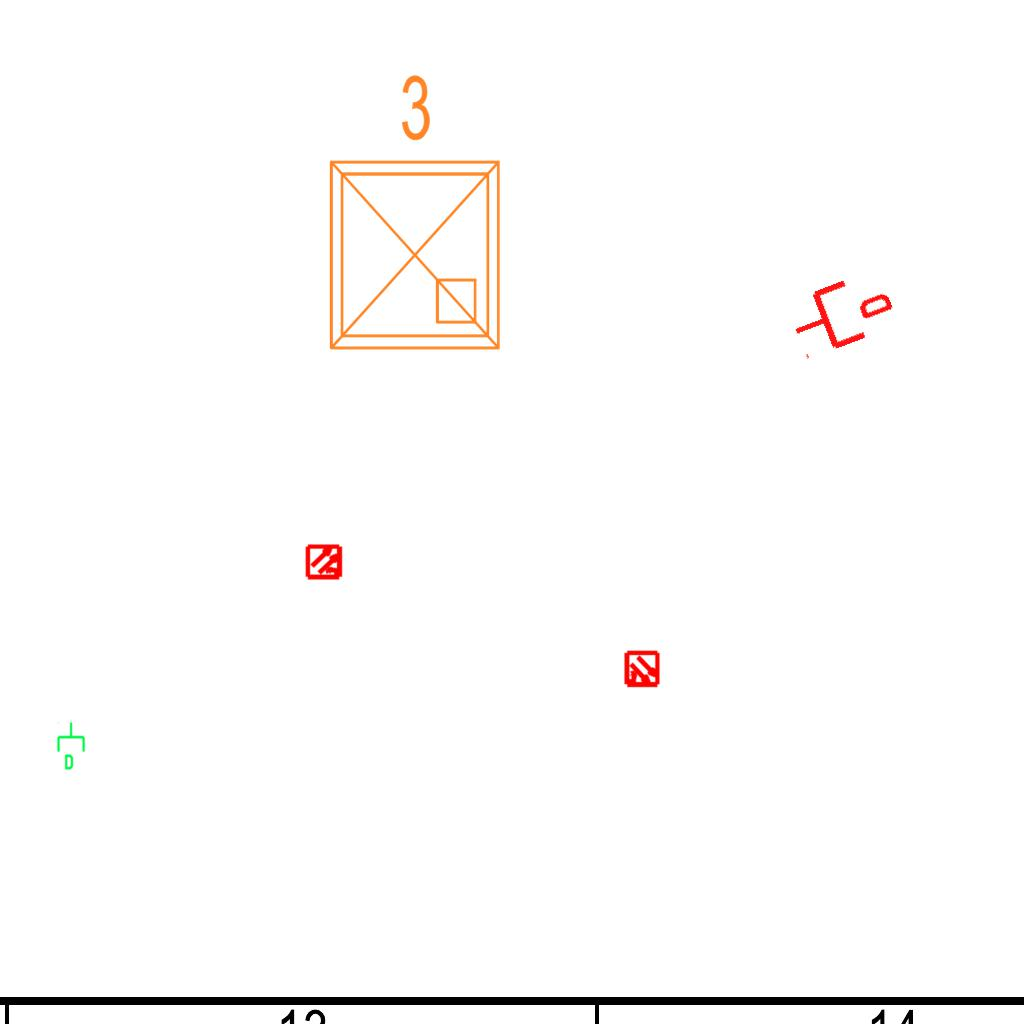Datenanschluss_einfach: (782, 263, 901, 365), (55, 721, 89, 771)
Einbaudownlights_LED_Konferenzraeume: (307, 64, 515, 364)
OT_Multisensormelder_(Kombination_RMO_WMD): (614, 642, 670, 698), (297, 534, 353, 590)
